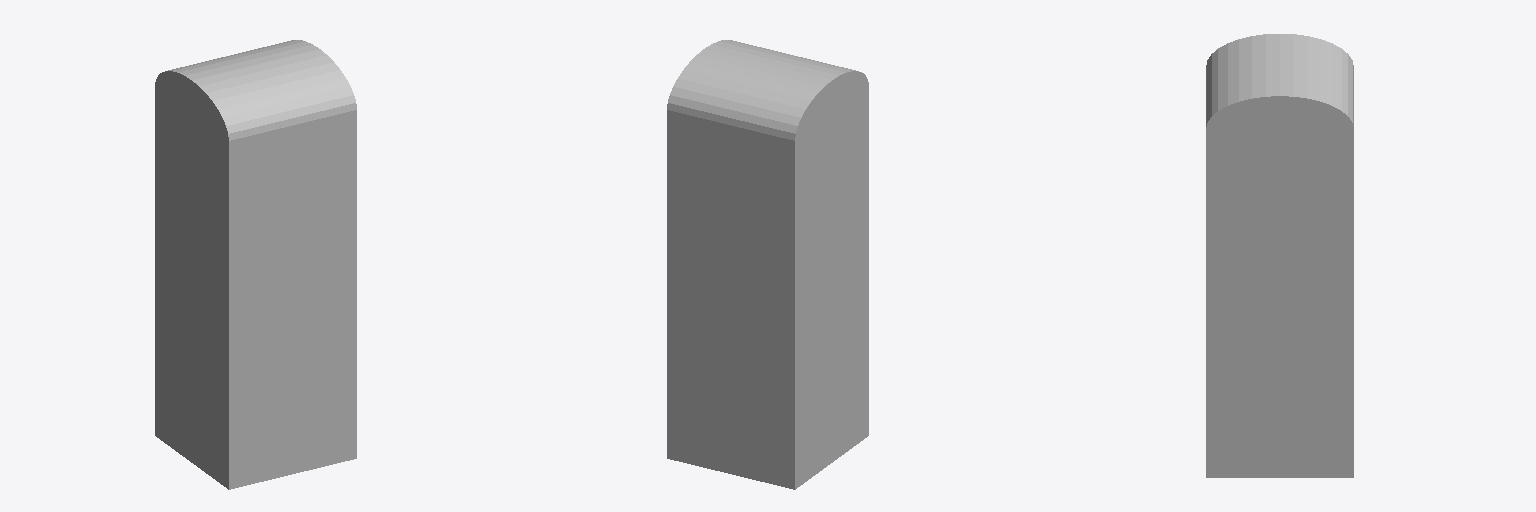
Rendered from body_r_distal_pinvround_collision.obj.
3 renders of one model, left to right at view 1: azimuth 30°, elevation 25°; view 2: azimuth 150°, elevation 25°; view 3: azimuth 270°, elevation 25°, orthographic.
Parts seen in each view (by area): view 1: body_r_distal_pinvround_collision_Cube.006; view 2: body_r_distal_pinvround_collision_Cube.006; view 3: body_r_distal_pinvround_collision_Cube.006.
Part boxes in pixels (x1,y1,x2,y2): body_r_distal_pinvround_collision_Cube.006: (155,40,356,489); body_r_distal_pinvround_collision_Cube.006: (667,40,868,489); body_r_distal_pinvround_collision_Cube.006: (1206,34,1353,477).
Bounding box in the file's own units: 0.02 × 0.057 × 0.02.